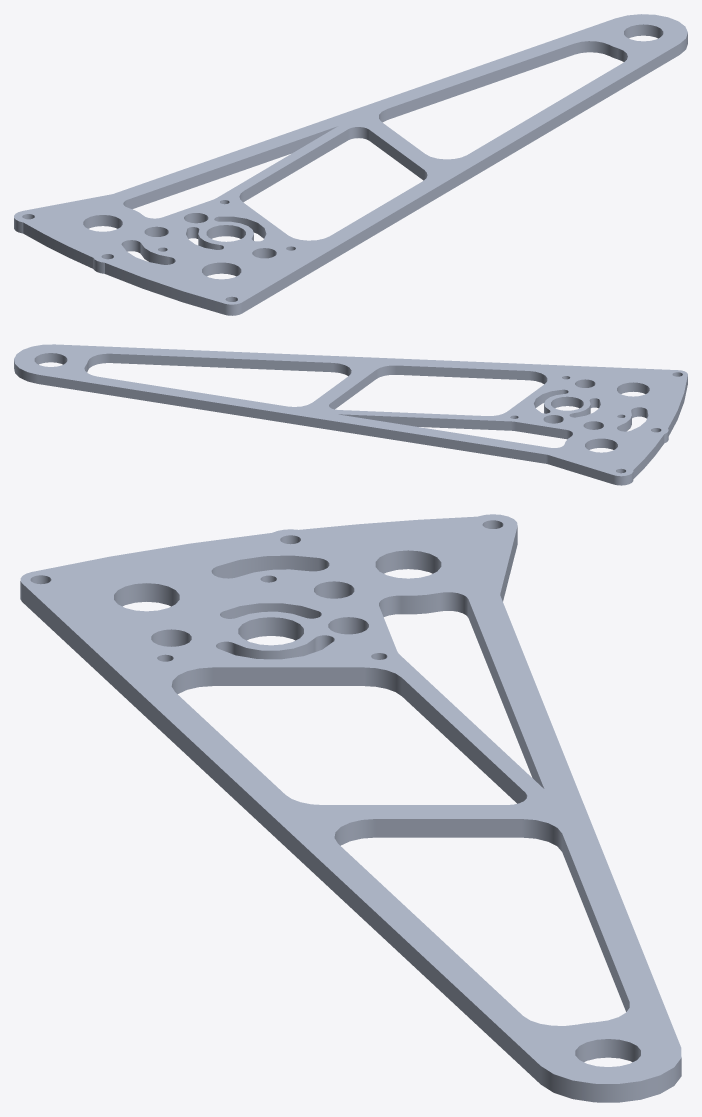
File: 俯仰板.FBX
3 views of the same model, one above another, from view 1: azimuth 30°, elevation 25°; view 2: azimuth 150°, elevation 25°; view 3: azimuth 270°, elevation 25° (orthographic). The views are drawn at different scales.
Parts seen in each view (by area): view 1: 圆角5; view 2: 圆角5; view 3: 圆角5.
Boxes of the visible parts, x1,y1,x2,y2 form: 圆角5: [14, 14, 687, 315]; 圆角5: [14, 344, 687, 485]; 圆角5: [20, 514, 681, 1102].
Bounding box in the file's own units: 32.75 × 0.5 × 16.06.
